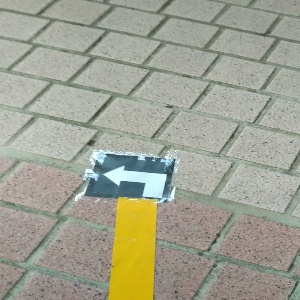left: (84, 153, 175, 200)
